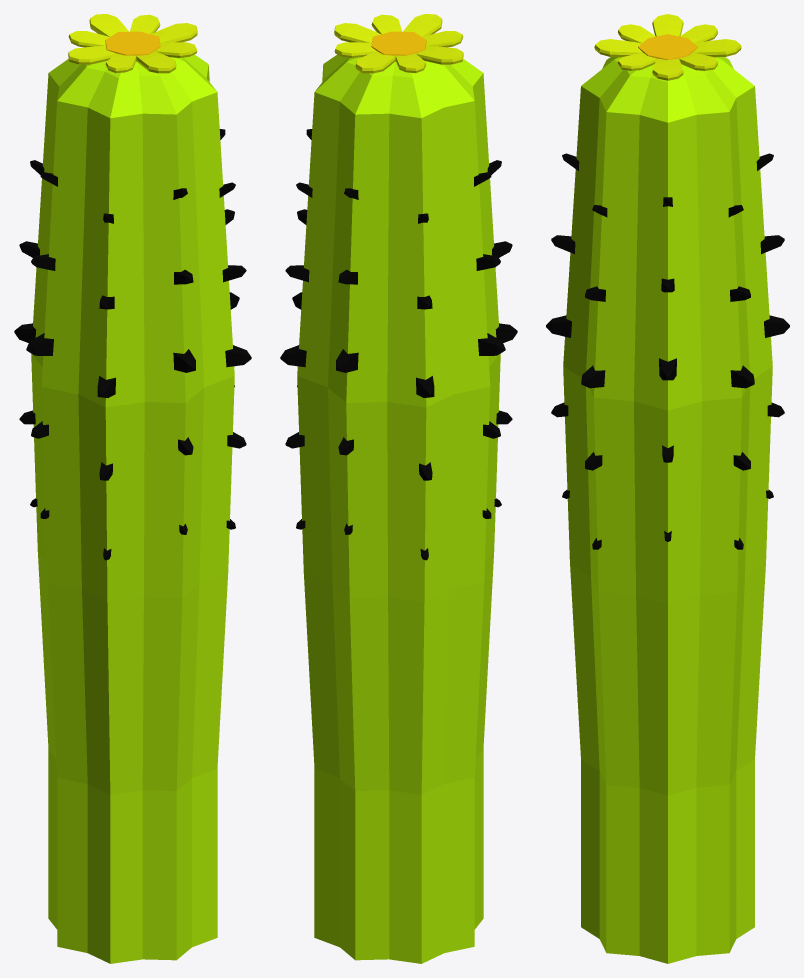
Rendered from Cardon05_00Brazos_Flor_Amarilla.fbx.
3 views of the same model, side by side, from view 1: azimuth 30°, elevation 25°; view 2: azimuth 150°, elevation 25°; view 3: azimuth 270°, elevation 25° (orthographic).
Parts seen in each view (by area): view 1: Cactus, Espinas, Flor_Amarilla; view 2: Cactus, Espinas, Flor_Amarilla; view 3: Cactus, Espinas, Flor_Amarilla.
Part boxes in pixels (x1=…): Cactus: x1=31, y1=54, x2=234, y2=963; Espinas: x1=14, y1=129, x2=251, y2=560; Flor_Amarilla: x1=68, y1=14, x2=197, y2=73; Cactus: x1=297, y1=54, x2=500, y2=963; Espinas: x1=280, y1=129, x2=517, y2=560; Flor_Amarilla: x1=334, y1=14, x2=463, y2=73; Cactus: x1=563, y1=57, x2=772, y2=963; Espinas: x1=546, y1=153, x2=789, y2=549; Flor_Amarilla: x1=594, y1=14, x2=741, y2=80.
Size of the model in its own units: 53.18 by 212 by 53.18.
